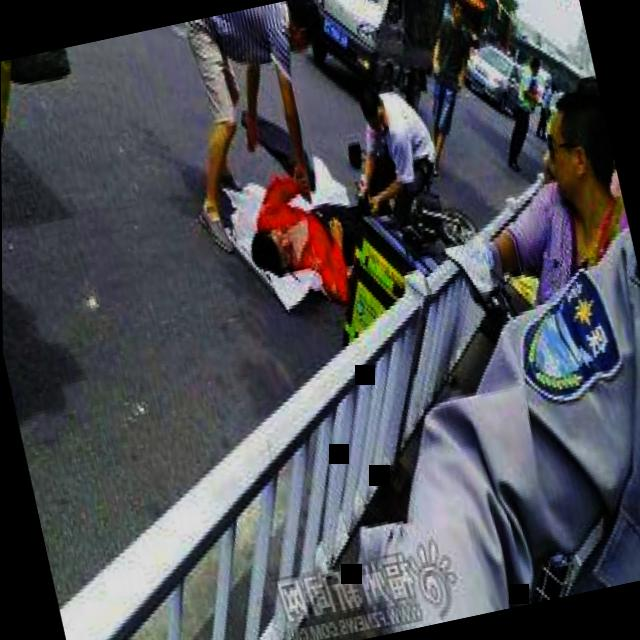Fall-Detected: (224, 137, 425, 330)
